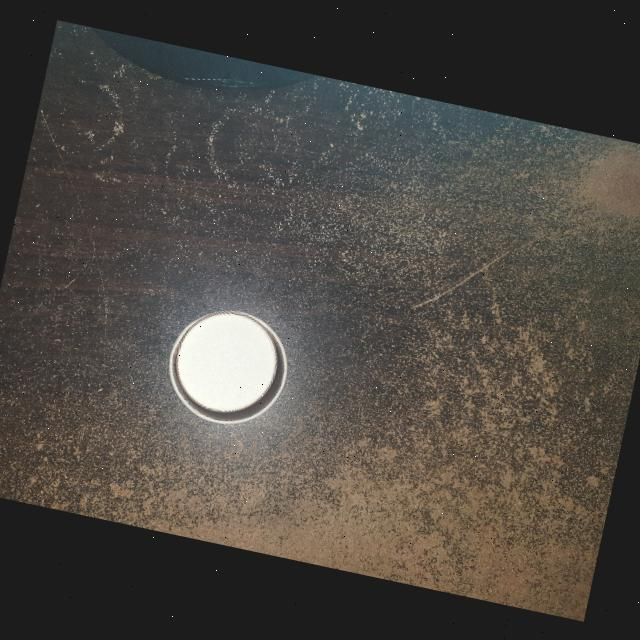trash: (154, 296, 302, 442)
